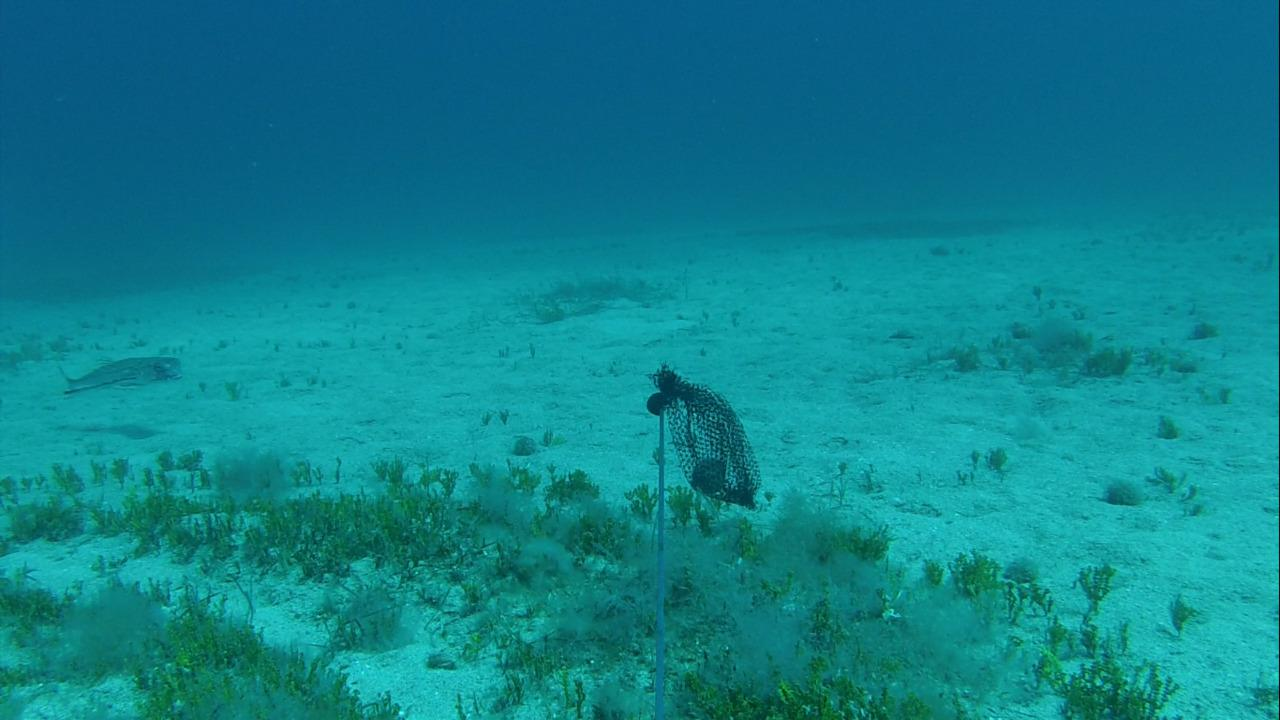dactylopterus: (38, 345, 191, 402)
